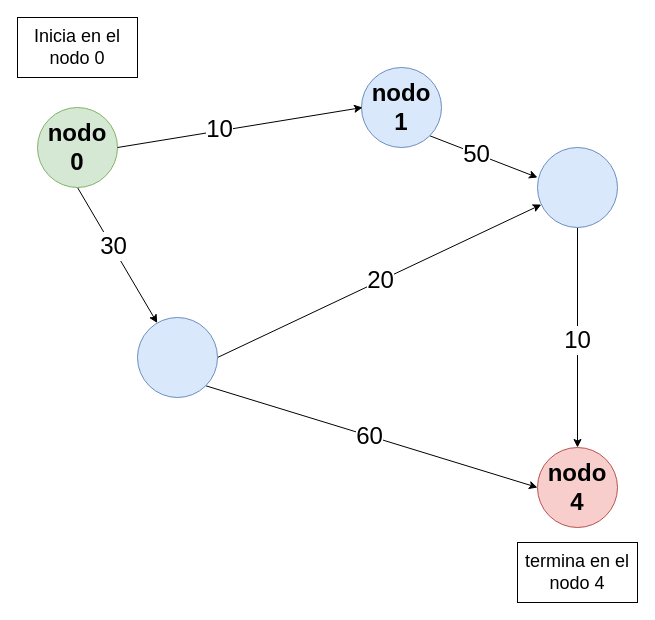
Some shapes in this 655 by 620 pixel diagram are drawn without their labels. The shapes that lost their labels are listed below. From the top down, each one's box as (x1, y1, x2, y2) in pixels, then its label:
(536, 146, 618, 228): nodo 2
(136, 316, 218, 398): nodo3
